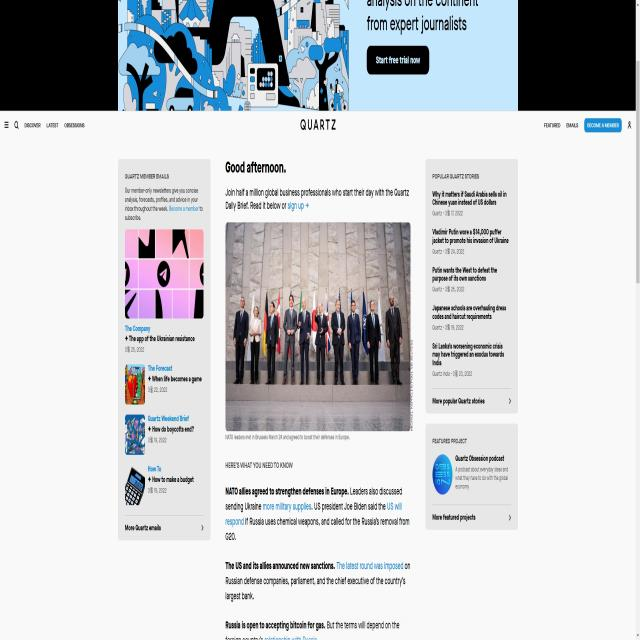menu-bar: (537, 108, 639, 134)
side-panel: (116, 157, 210, 544)
